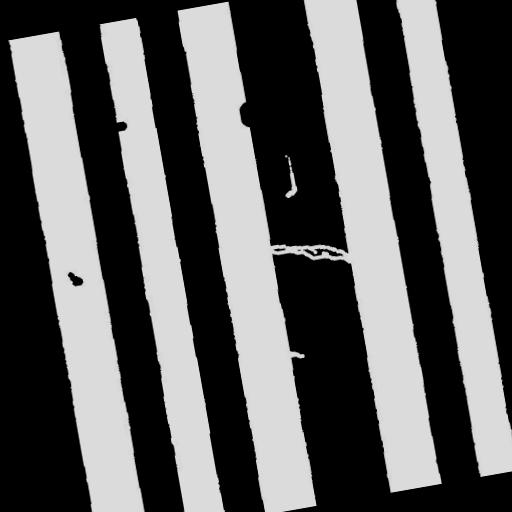copper: (58, 261, 92, 295)
mousebite: (272, 339, 313, 369)
open: (258, 221, 362, 285)
pin-hole: (268, 144, 306, 206)
spur: (229, 91, 267, 136), (101, 112, 136, 140)
